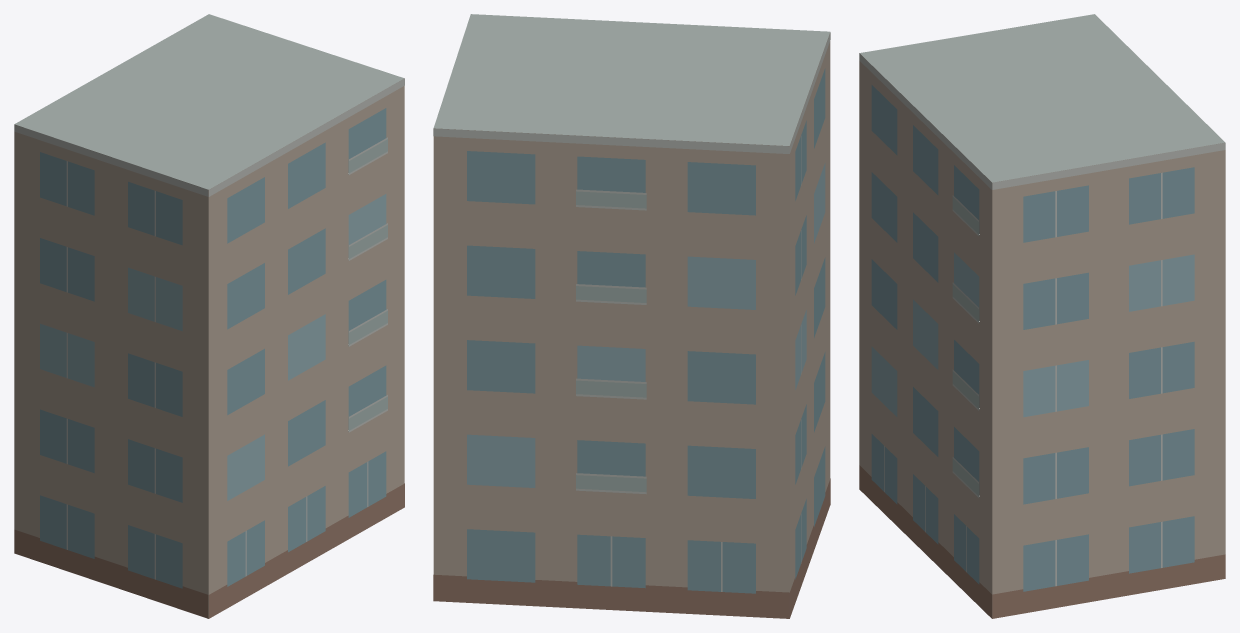
Rendered from survey-upis-32980448.glb.
The picture shows the model from 3 angles, left to right: view 1: azimuth 30°, elevation 25°; view 2: azimuth 150°, elevation 25°; view 3: azimuth 270°, elevation 25°; orthographic projection. The views are drawn at different scales.
Parts seen in each view (by area): view 1: survey-upis-32980448.tmp; view 2: survey-upis-32980448.tmp; view 3: survey-upis-32980448.tmp.
Boxes of the visible parts, box(x1,y1,x2,y2) form: survey-upis-32980448.tmp: box(14, 14, 404, 618); survey-upis-32980448.tmp: box(433, 14, 830, 618); survey-upis-32980448.tmp: box(859, 14, 1225, 618).
Size of the model in its own units: 11.91 by 14.35 by 10.92.
